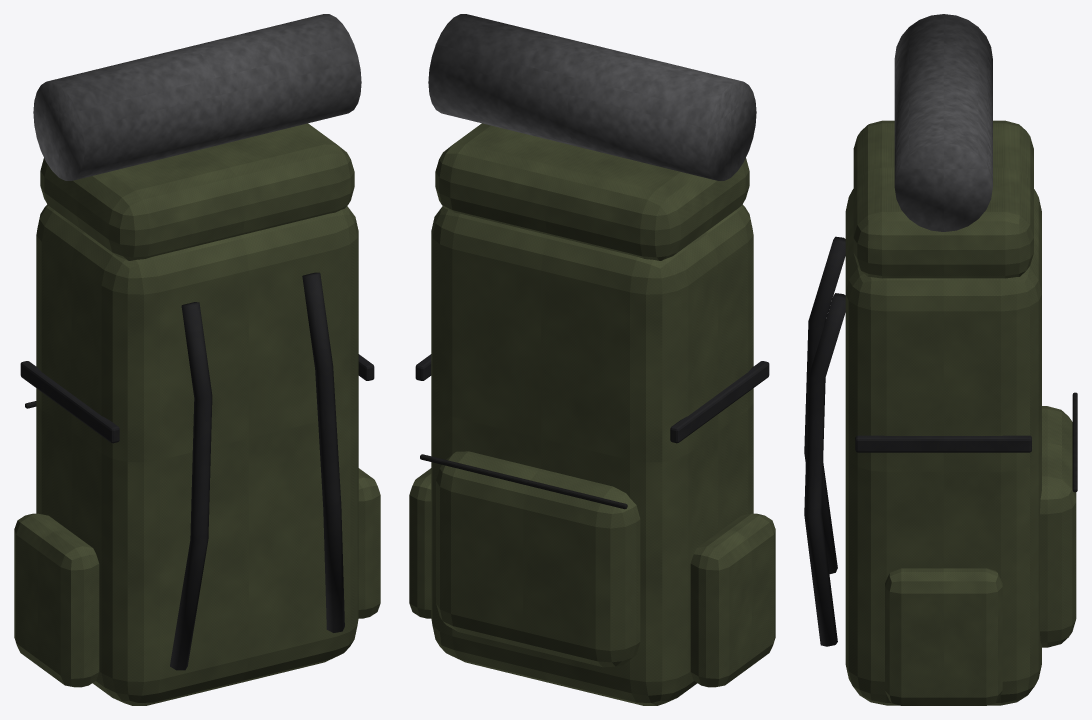
File: backpack_large.glb
3 views of the same model, side by side, from view 1: azimuth 30°, elevation 25°; view 2: azimuth 150°, elevation 25°; view 3: azimuth 270°, elevation 25° (orthographic). The views are drawn at different scales.
Visible parts, largest first — view 1: body, mat, lid, bottle_pocket-1, strap-1, strap1, bottle_pocket1, compress-1; view 2: body, pocket, mat, lid, bottle_pocket-1, bottle_pocket1, compress-1, zip; view 3: body, mat, lid, bottle_pocket1, pocket, strap1, strap-1, compress1, zip.
Boxes of the visible parts, x1,y1,x2,y2 form: body: (36,204,358,705); mat: (33,14,361,180); lid: (40,123,354,260); bottle_pocket-1: (14,513,99,687); strap-1: (170,302,212,670); strap1: (302,272,344,632); bottle_pocket1: (358,468,380,618); compress-1: (20,361,119,443); body: (431,204,753,705); pocket: (436,451,640,667); mat: (428,14,756,180); lid: (435,123,749,260); bottle_pocket-1: (690,513,775,687); bottle_pocket1: (409,468,431,618); compress-1: (670,361,769,443); zip: (420,454,627,509); body: (845,189,1041,705); mat: (894,14,992,231); lid: (853,120,1033,278); bottle_pocket1: (885,568,1002,705); pocket: (1040,406,1076,647); strap1: (804,293,845,646); strap-1: (804,236,845,574); compress1: (855,435,1031,452); zip: (1072,392,1077,492).
Bounding box in the file's own units: 0.43 × 0.785 × 0.3344.
Materials: 4 (4 with a texture image).
